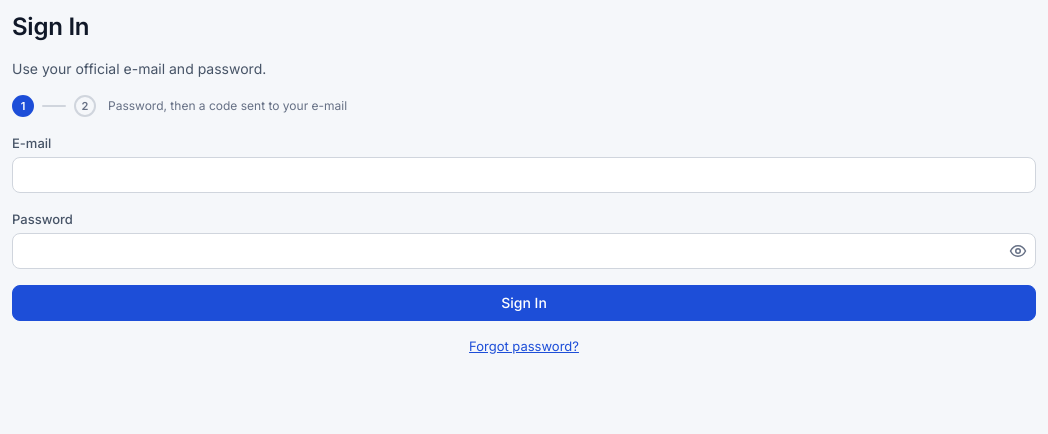
Scenario: sign-in › locked shows the wait from retry_after
Type "a@example.org" into the field labelled "E-mail" at (524, 175), box [12,157,1036,193]
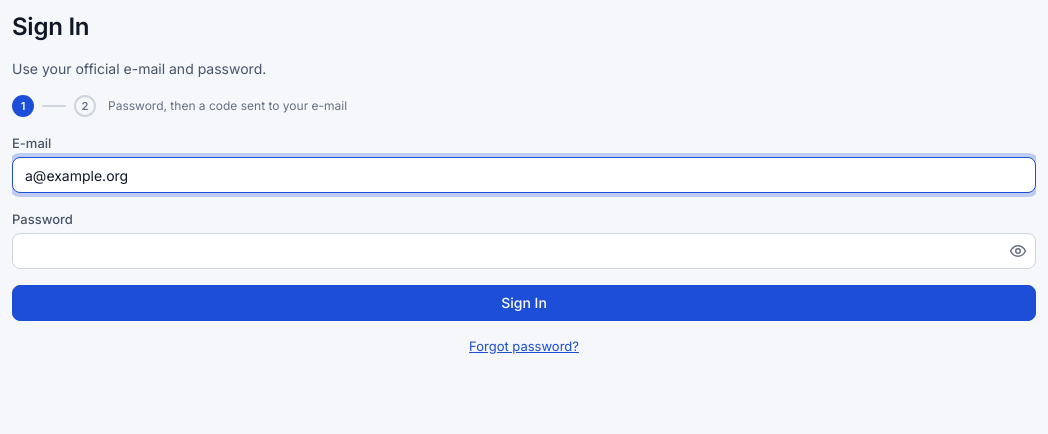
Type "x" into the password field labelled "Password" at (524, 251), box [12,233,1036,269]
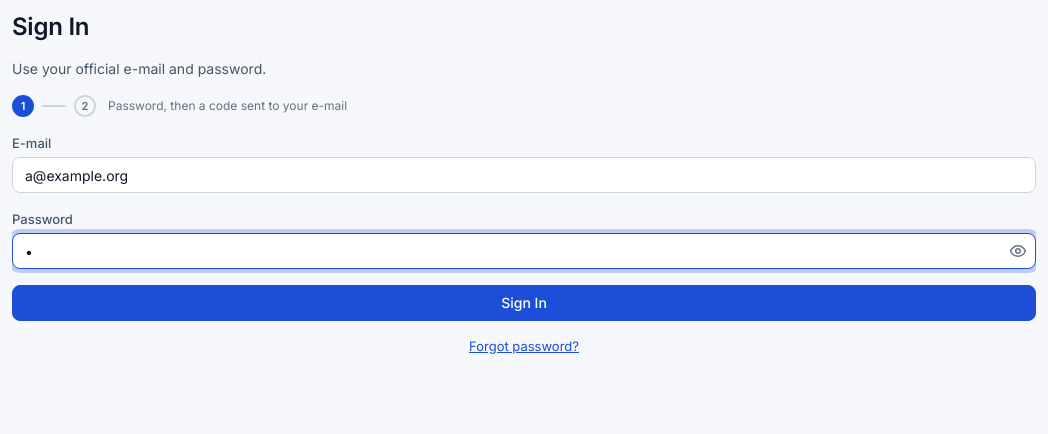
Click the button "Sign In" at (524, 303), box [12,285,1036,321]
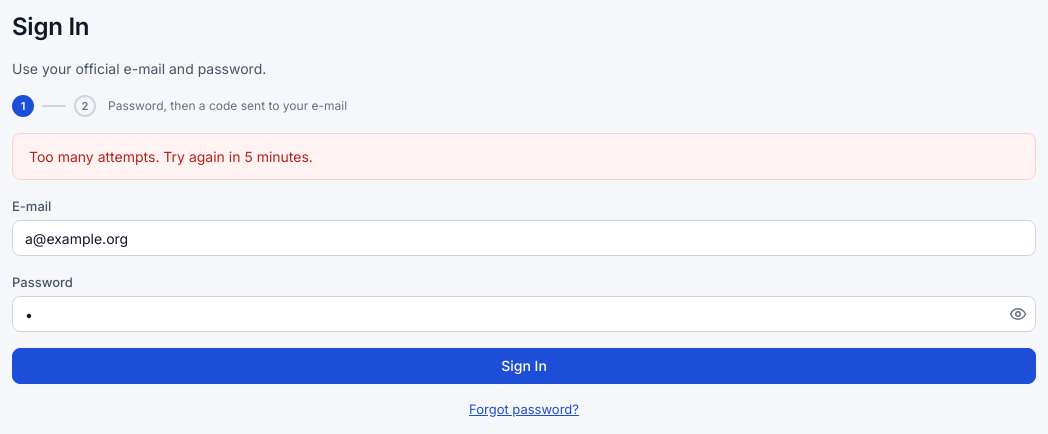
Expected: the message shows "Try again in 5 minutes", [29,148,313,165]
